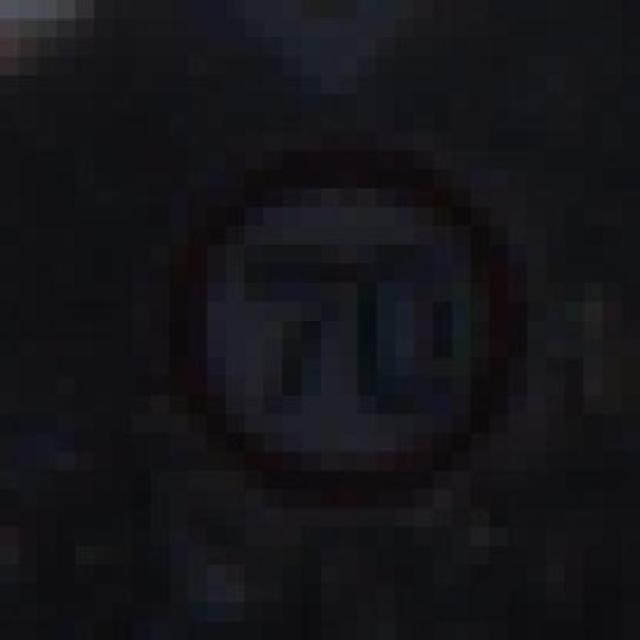forb_speed_over_70: (173, 155, 521, 513)
